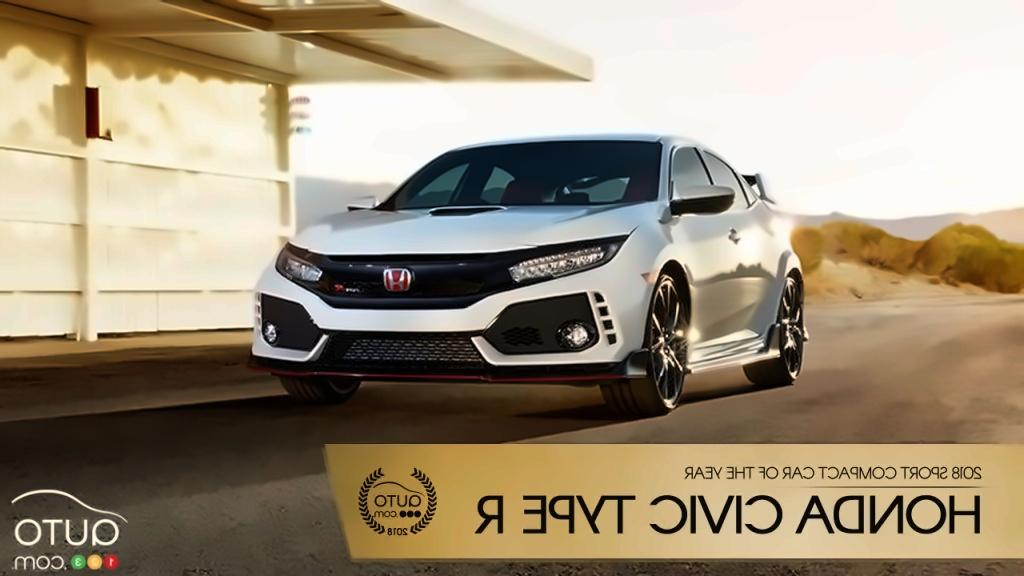Car hood: (286, 201, 659, 258)
Fender - -F-L-: (616, 198, 696, 369)
Fender - -R-L-: (771, 219, 806, 331)
Front bumper: (237, 266, 652, 387)
Headlight - -L-: (506, 230, 628, 290)
Headlight - -R-: (272, 238, 327, 289)
Passenger-s door - -F-L-: (673, 146, 743, 356)
Passenger-s door - -R-L-: (715, 146, 780, 358)
Side bumper - -L-: (679, 320, 788, 376)
Side mirror - -L-: (666, 182, 744, 223)
Side mirror - -R-: (342, 191, 383, 219)
